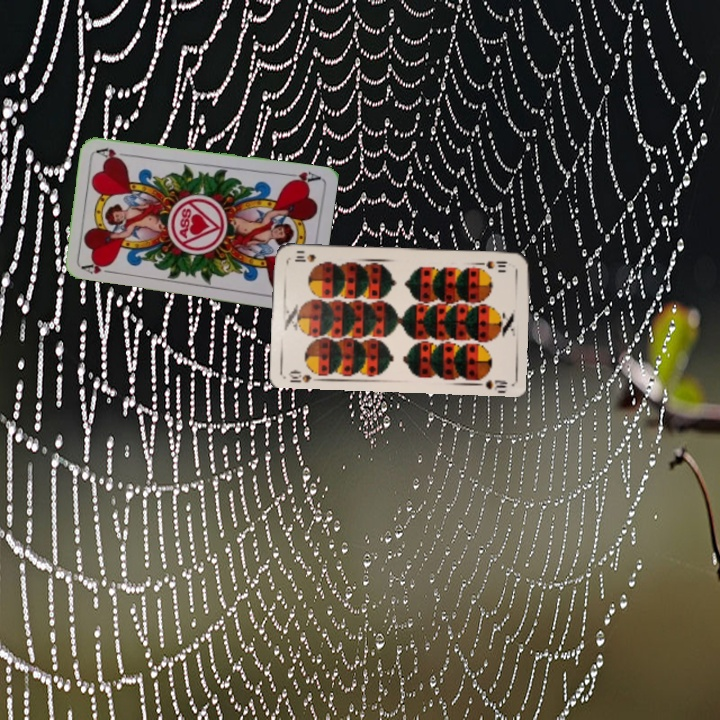HA: (282, 167, 322, 187), (78, 259, 119, 277)
S10: (284, 366, 323, 385), (475, 257, 510, 271)
